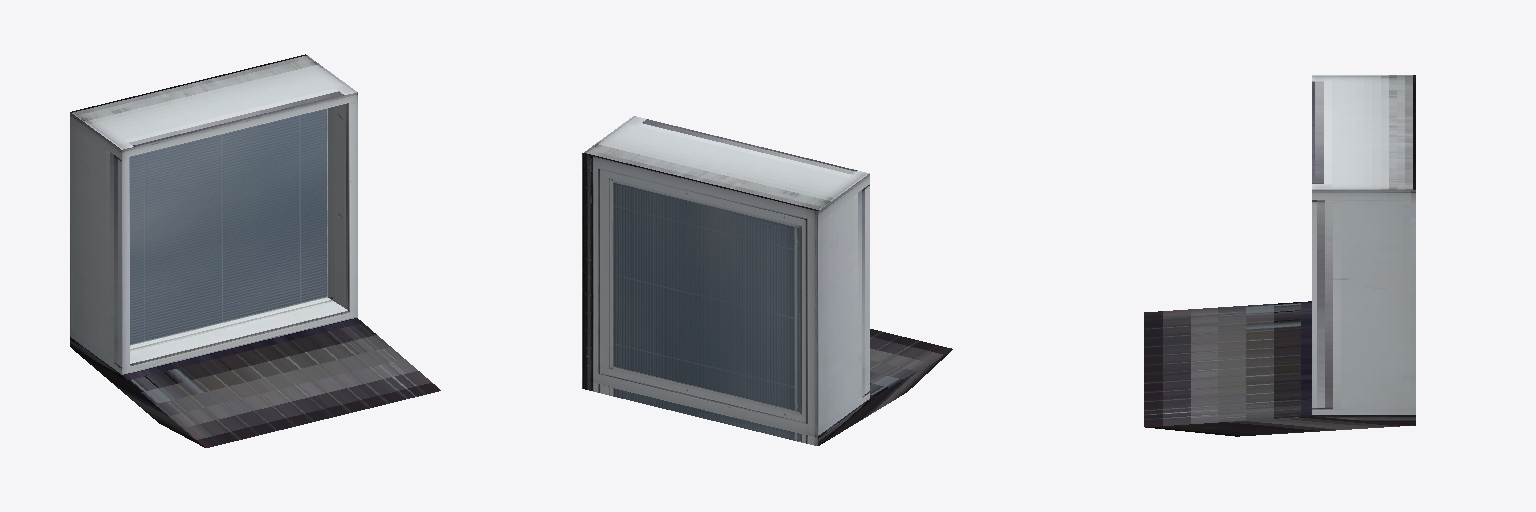
3 renders of one model, left to right at view 1: azimuth 30°, elevation 25°; view 2: azimuth 150°, elevation 25°; view 3: azimuth 270°, elevation 25°, orthographic.
Parts seen in each view (by area): view 1: Box010; view 2: Box010; view 3: Box010.
Part boxes in pixels (left/top/right/bottom): Box010: left=70, top=54, right=440, bottom=447; Box010: left=582, top=116, right=952, bottom=445; Box010: left=1144, top=75, right=1415, bottom=436.
Bounding box in the file's own units: 12.82 × 12.8 × 12.78.
Materials: 1 (1 with a texture image).